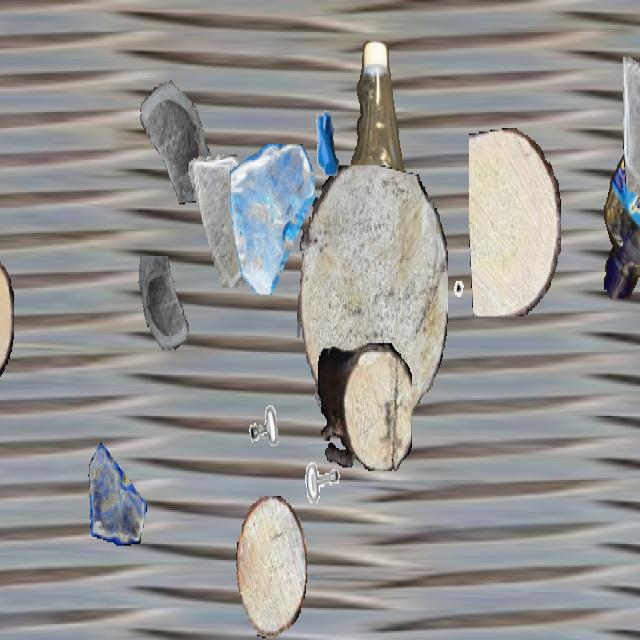glass: (230, 144, 314, 293), (130, 57, 212, 203), (186, 155, 260, 286), (135, 256, 197, 366), (88, 441, 146, 544), (623, 48, 640, 208)
metal: (235, 347, 295, 453), (298, 91, 354, 190), (302, 453, 348, 535), (450, 278, 490, 348)
plastic: (330, 41, 412, 393), (602, 137, 640, 297)
wood: (297, 166, 447, 436), (469, 128, 561, 316), (318, 343, 412, 471), (236, 496, 306, 638), (0, 250, 13, 386)
